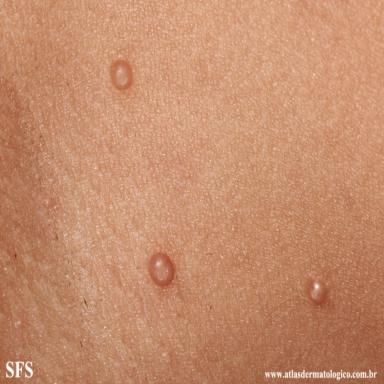Molluscum-Contagiosum: (149, 252, 175, 286), (111, 61, 132, 90), (307, 278, 328, 305)
